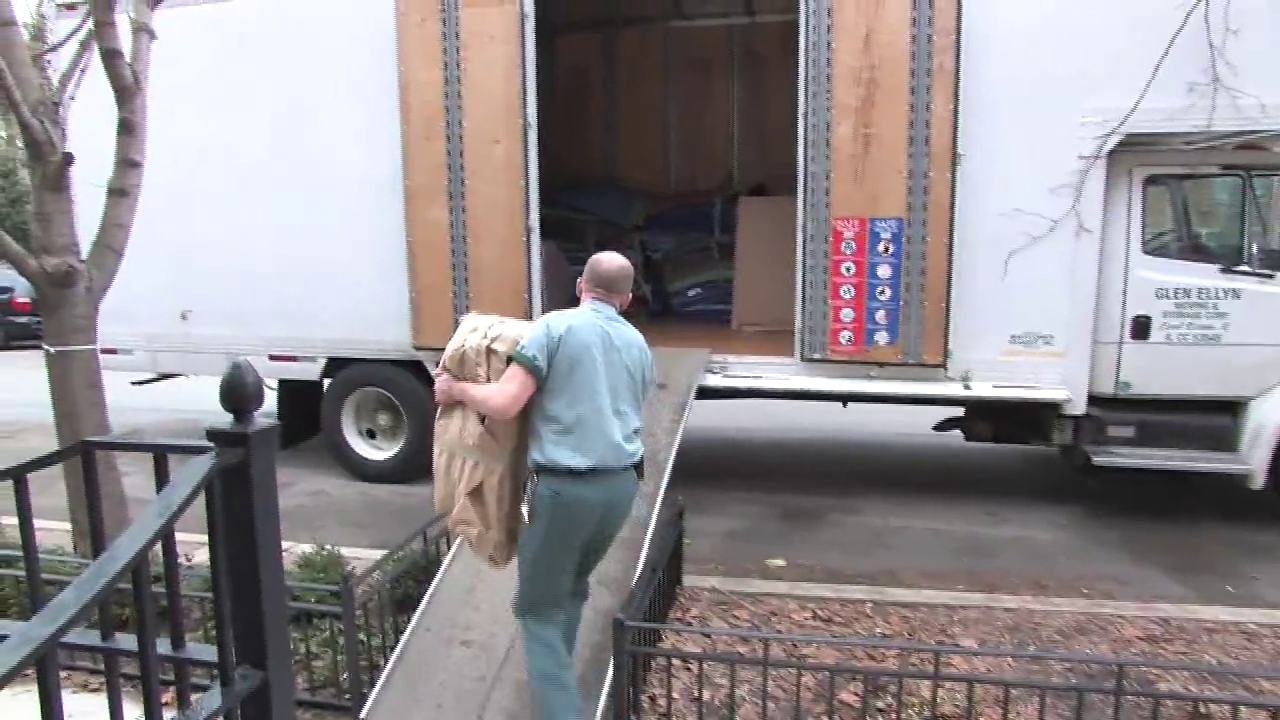person: (433, 249, 656, 720)
